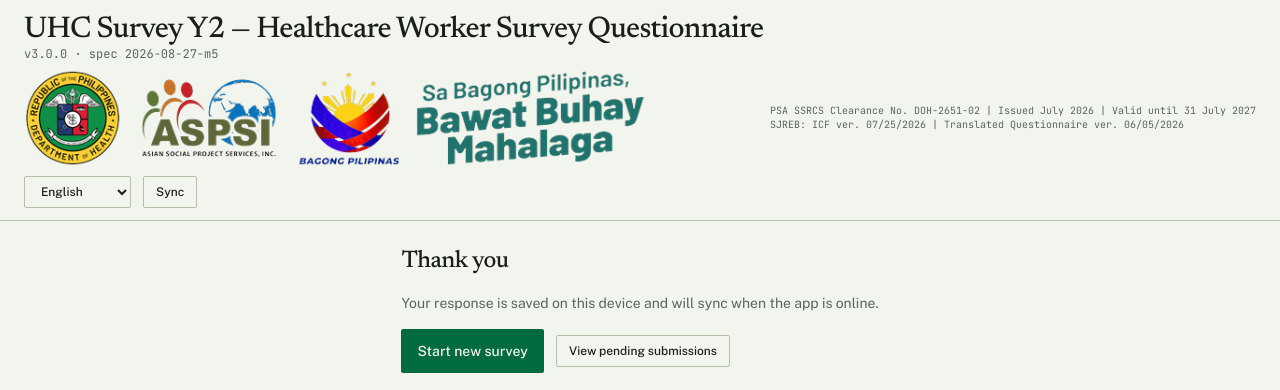
Test: <App> › on a /f/<slug> device, "Start new survey" unenrolls back to the facility start screen (fresh QN per respondent)
This screenshot has width=1280, height=390.
Click the button "Start new survey" at (473, 351), box [401,329,544,373]
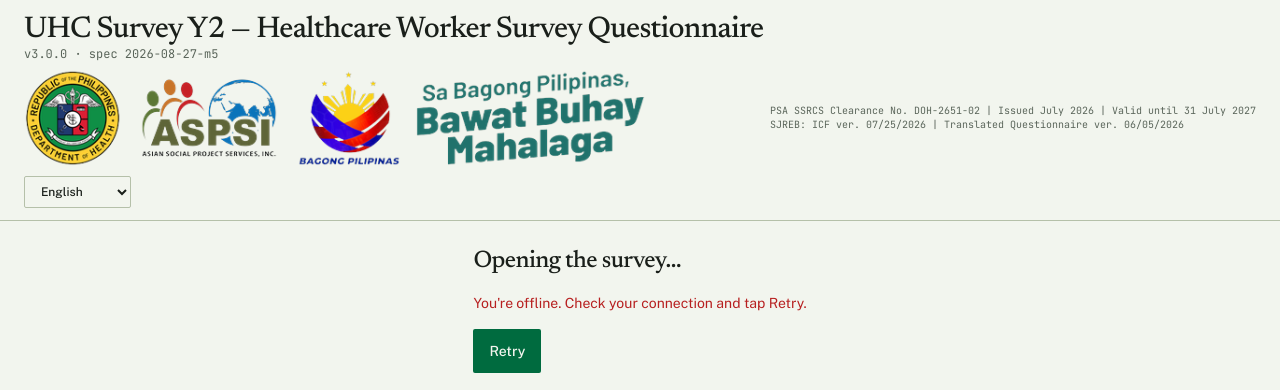
Expected: the heading "Opening the survey…" is shown, [473,249,681,273]
